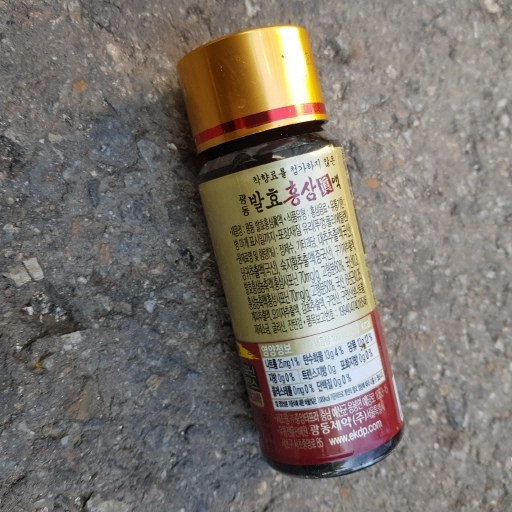Glass_3: (173, 23, 404, 478)
